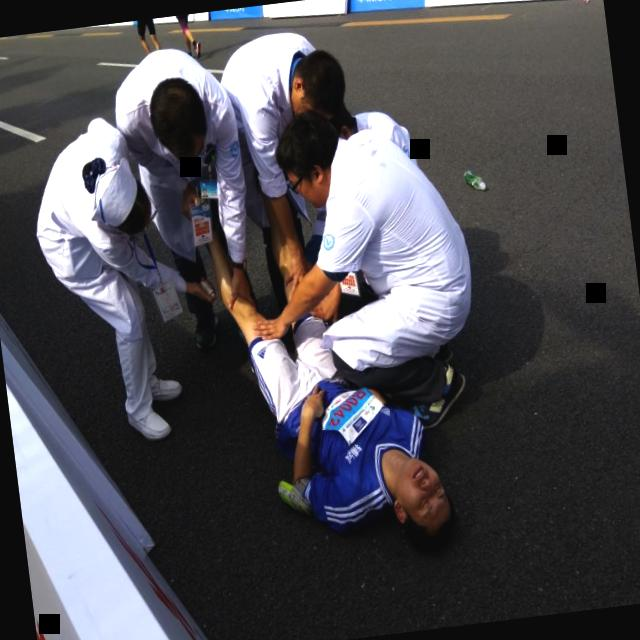Fall-Detected: (212, 212, 466, 583)
